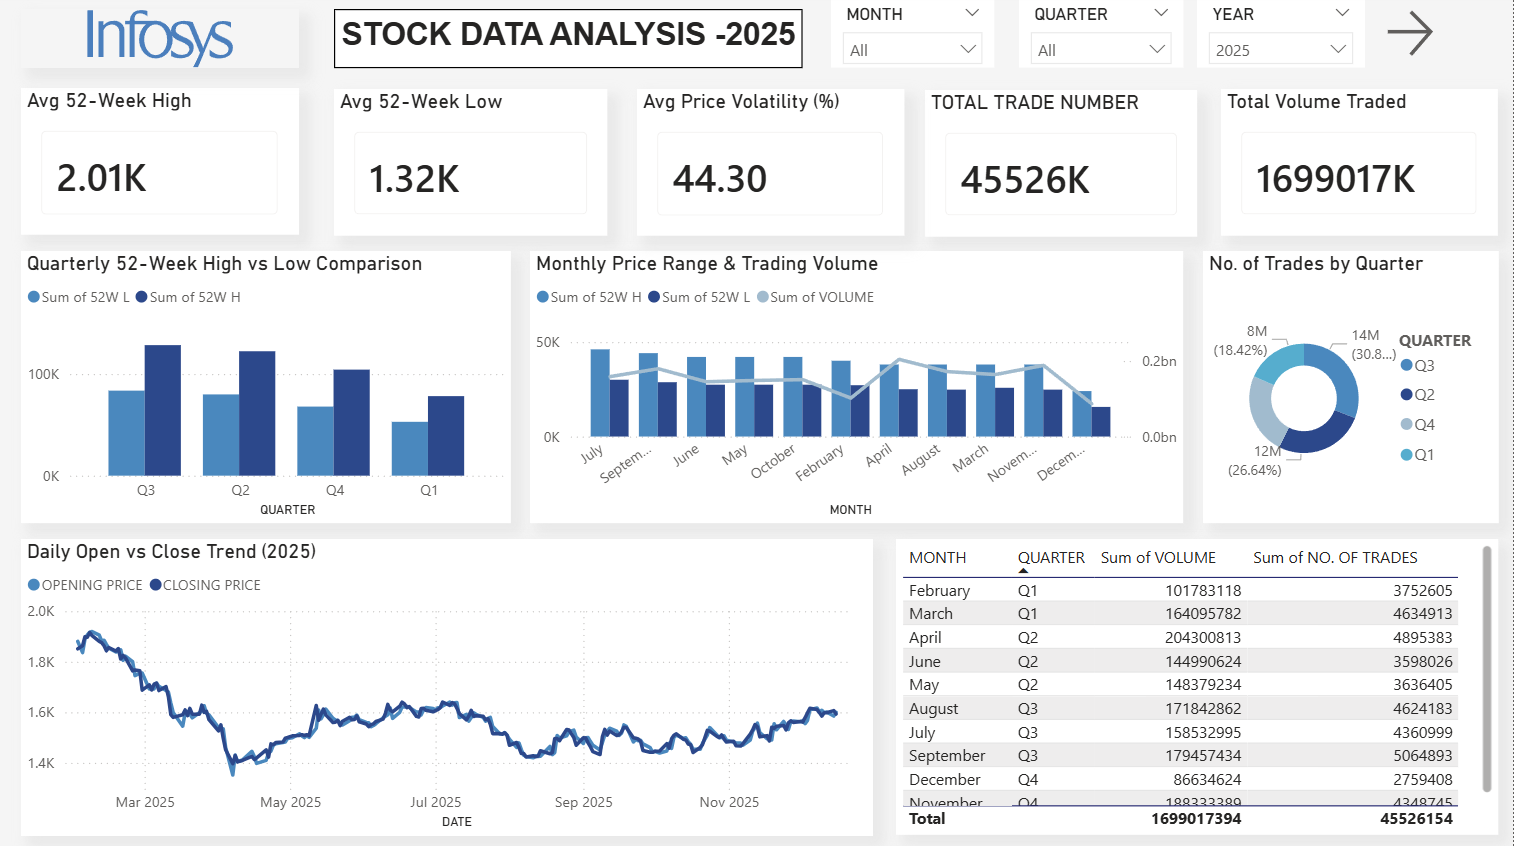

What the dashboard file says about the page in this screenshot:
{"tool":"powerbi","page":{"name":"PRICE ANALYSIS","canvas":[1280,720],"ordinal":0},"visuals":[{"type":"slicer","fields":{"Values":["Quote-Equity-INFY-EQ-01-02-2025.MONTH"]},"box":[704,0,138.5,58.2],"z":0},{"type":"slicer","fields":{"Values":["Quote-Equity-INFY-EQ-01-02-2025.YEAR"]},"box":[1013.6,0,142,58.2],"z":1000},{"type":"slicer","fields":{"Values":["Quote-Equity-INFY-EQ-01-02-2025.QUARTER"]},"box":[862.7,0,139.4,58.2],"z":2000},{"type":"cardVisual","title":"Avg 52-Week High","fields":{"Data":["Avg(Quote-Equity-INFY-EQ-01-02-2025.52W H)"]},"box":[19.4,75.2,234.9,124.2],"z":3000},{"type":"cardVisual","title":"Avg 52-Week Low","fields":{"Data":["Avg(Quote-Equity-INFY-EQ-01-02-2025.52W L)"]},"box":[284.1,75.9,231.1,123.5],"z":4000},{"type":"cardVisual","title":"TOTAL TRADE NUMBER","fields":{"Data":["Sum(Quote-Equity-INFY-EQ-01-02-2025.NO. OF  TRADES)"]},"box":[783.3,76.7,230.2,123.5],"z":5000},{"type":"cardVisual","title":"Total Volume Traded","fields":{"Data":["Sum(Quote-Equity-INFY-EQ-01-02-2025.VOLUME)"]},"box":[1033.9,75.9,233.8,123.5],"z":6000},{"type":"clusteredColumnChart","title":"Quarterly 52-Week High vs Low Comparison","fields":{"Y":["Sum(Quote-Equity-INFY-EQ-01-02-2025.52W L)","Sum(Quote-Equity-INFY-EQ-01-02-2025.52W H)"],"Category":["INFOSYS_DATASET.QUARTER"]},"box":[19.4,213,414.1,229.9],"z":7000},{"type":"image","box":[19.4,8.5,234.9,49.9],"z":8000},{"type":"lineClusteredColumnComboChart","title":"Monthly Price Range & Trading Volume","fields":{"Category":["Quote-Equity-INFY-EQ-01-02-2025.MONTH"],"Y":["Sum(Quote-Equity-INFY-EQ-01-02-2025.52W H)","Sum(Quote-Equity-INFY-EQ-01-02-2025.52W L)"],"Y2":["Sum(Quote-Equity-INFY-EQ-01-02-2025.VOLUME)"]},"box":[449.5,212.7,552.3,229.8],"z":9000},{"type":"donutChart","title":"No. of Trades by Quarter","fields":{"Category":["Quote-Equity-INFY-EQ-01-02-2025.QUARTER"],"Y":["Sum(Quote-Equity-INFY-EQ-01-02-2025.NO. OF  TRADES)"]},"box":[1018,212.6,249.6,230.2],"z":10000},{"type":"lineChart","title":"Daily Open vs Close Trend (2025)","fields":{"Category":["Quote-Equity-INFY-EQ-01-02-2025.DATE"],"Y":["Sum(Quote-Equity-INFY-EQ-01-02-2025.OPEN)","Sum(Quote-Equity-INFY-EQ-01-02-2025.CLOSE)"]},"box":[19.4,456.1,719.8,250.5],"z":11000},{"type":"tableEx","fields":{"Values":["Quote-Equity-INFY-EQ-01-02-2025.MONTH","Quote-Equity-INFY-EQ-01-02-2025.QUARTER","Sum(Quote-Equity-INFY-EQ-01-02-2025.VOLUME)","Sum(Quote-Equity-INFY-EQ-01-02-2025.NO. OF  TRADES)"]},"box":[758.9,456.3,508.7,250.1],"z":12000},{"type":"textbox","box":[283.9,8.5,396.3,49.9],"z":13000},{"type":"cardVisual","title":"Avg Price Volatility (%)","fields":{"Data":["INFOSYS_DATASET.Avg Price Volatility (%)"]},"box":[539.9,75.9,225.8,124.4],"z":14000},{"type":"actionButton","box":[1168,4.4,99.7,49.4],"z":15000}]}

Visuals, with their boxes in screenshot pixels (x1, y1, x2, y2), scaled from the page's 1280x720 canvas onto the 1514x846 screenshot:
slicer - Quote-Equity-INFY-EQ-01-02-2025.MONTH: [833,0,997,68]
slicer - Quote-Equity-INFY-EQ-01-02-2025.YEAR: [1199,0,1367,68]
slicer - Quote-Equity-INFY-EQ-01-02-2025.QUARTER: [1020,0,1185,68]
"Avg 52-Week High" cardVisual: [23,88,301,234]
"Avg 52-Week Low" cardVisual: [336,89,609,234]
"TOTAL TRADE NUMBER" cardVisual: [926,90,1199,235]
"Total Volume Traded" cardVisual: [1223,89,1499,234]
"Quarterly 52-Week High vs Low Comparison" clusteredColumnChart: [23,250,513,520]
image: [23,10,301,69]
"Monthly Price Range & Trading Volume" lineClusteredColumnComboChart: [532,250,1185,520]
"No. of Trades by Quarter" donutChart: [1204,250,1499,520]
"Daily Open vs Close Trend (2025)" lineChart: [23,536,874,830]
tableEx - Quote-Equity-INFY-EQ-01-02-2025.MONTH x Quote-Equity-INFY-EQ-01-02-2025.QUARTER: [898,536,1499,830]
textbox: [336,10,805,69]
"Avg Price Volatility (%)" cardVisual: [639,89,906,235]
actionButton: [1382,5,1499,63]
